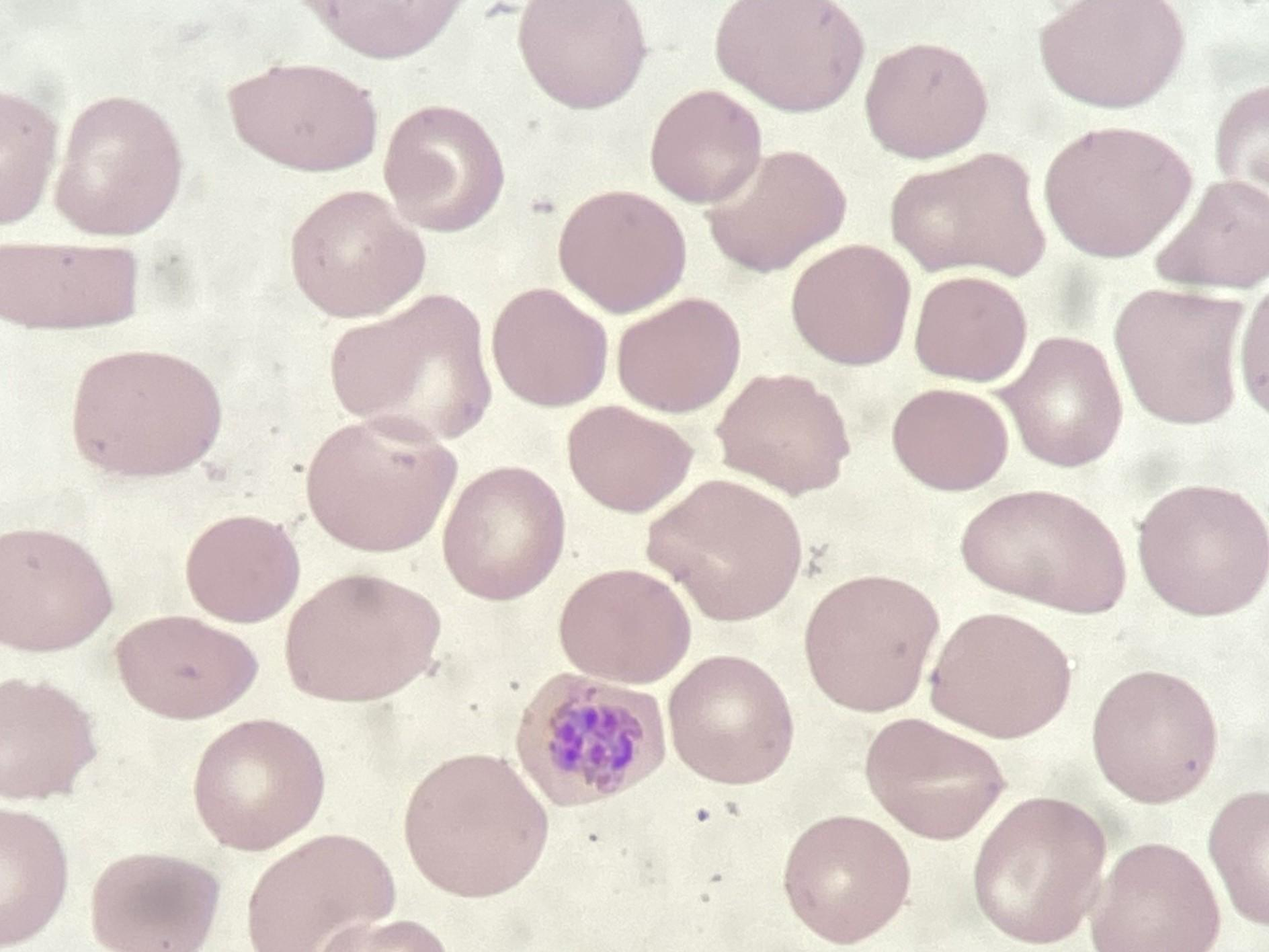Infected: (519, 672, 664, 807)
Uninfected: (332, 296, 488, 438), (649, 481, 802, 621), (963, 492, 1125, 614), (306, 424, 457, 553), (285, 578, 438, 704), (404, 760, 544, 897), (893, 155, 1043, 278), (971, 801, 1102, 941), (1047, 130, 1189, 258), (73, 354, 218, 477), (805, 578, 938, 711), (1114, 290, 1246, 424), (930, 615, 1070, 738), (55, 97, 181, 233), (1135, 487, 1267, 616), (246, 838, 393, 952), (866, 720, 1004, 840), (715, 374, 847, 498), (195, 721, 320, 850), (708, 153, 844, 271), (991, 340, 1117, 467), (1092, 674, 1215, 803), (292, 194, 421, 316), (229, 67, 374, 174), (667, 658, 791, 783), (784, 818, 908, 943), (442, 470, 562, 598), (718, 2, 860, 110), (559, 193, 685, 314), (1041, 1, 1180, 107), (559, 572, 688, 686), (384, 109, 503, 229), (116, 617, 255, 719), (792, 247, 910, 366), (0, 530, 112, 651), (567, 405, 691, 514), (1085, 847, 1217, 949), (618, 301, 737, 414), (518, 1, 645, 106), (866, 48, 987, 157), (493, 290, 605, 407), (185, 516, 301, 626), (91, 855, 220, 952), (651, 92, 762, 202), (892, 389, 1010, 492), (1158, 184, 1269, 292), (1, 245, 135, 331), (1, 680, 96, 801), (919, 276, 1024, 383)
